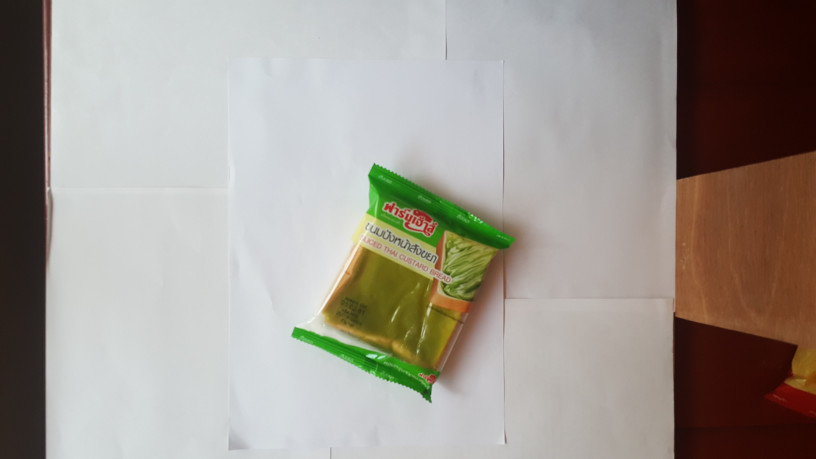farmhouse-bread-pandan: (290, 154, 522, 409)
